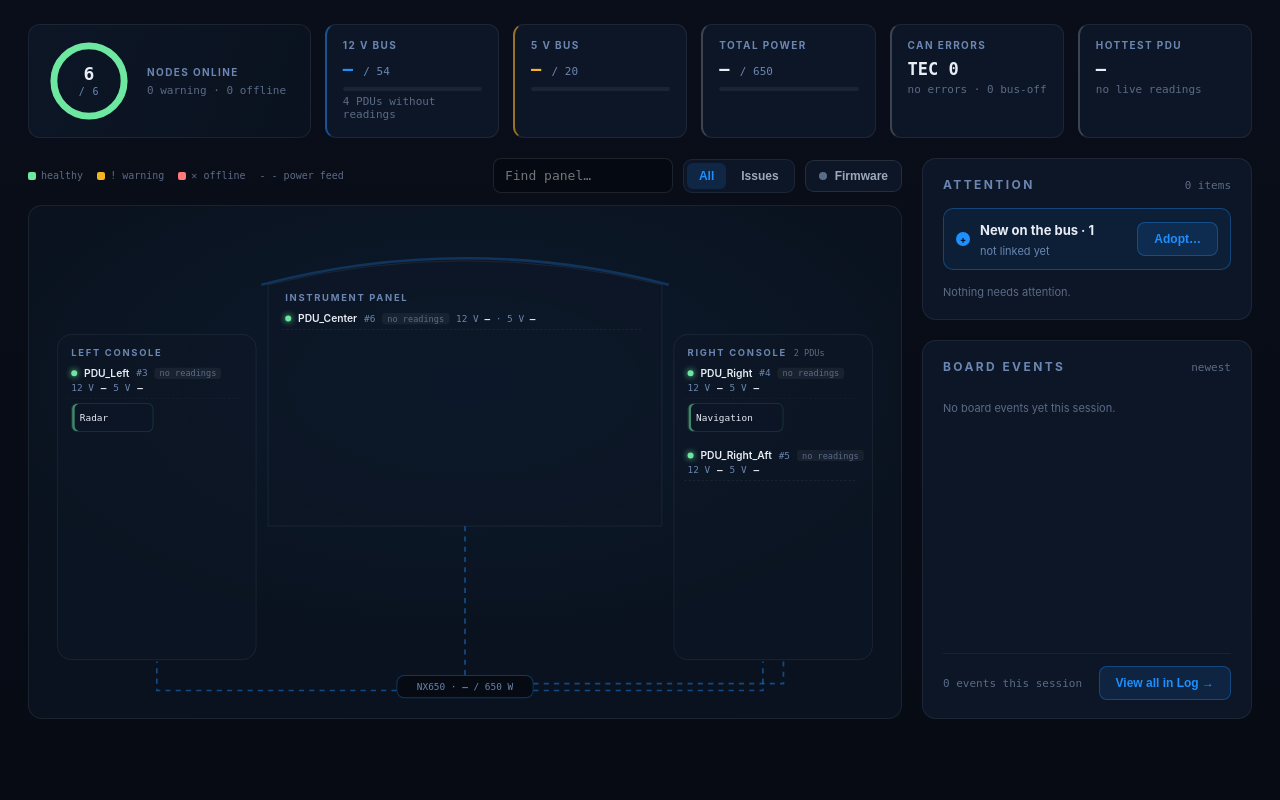
Test: T16 Board panel Settings tab (B72, X2) › Save sends only what changed, and the panel closes
Click the button titled "#2 Right_Navigation" at [736, 417], box [688, 403, 784, 432]
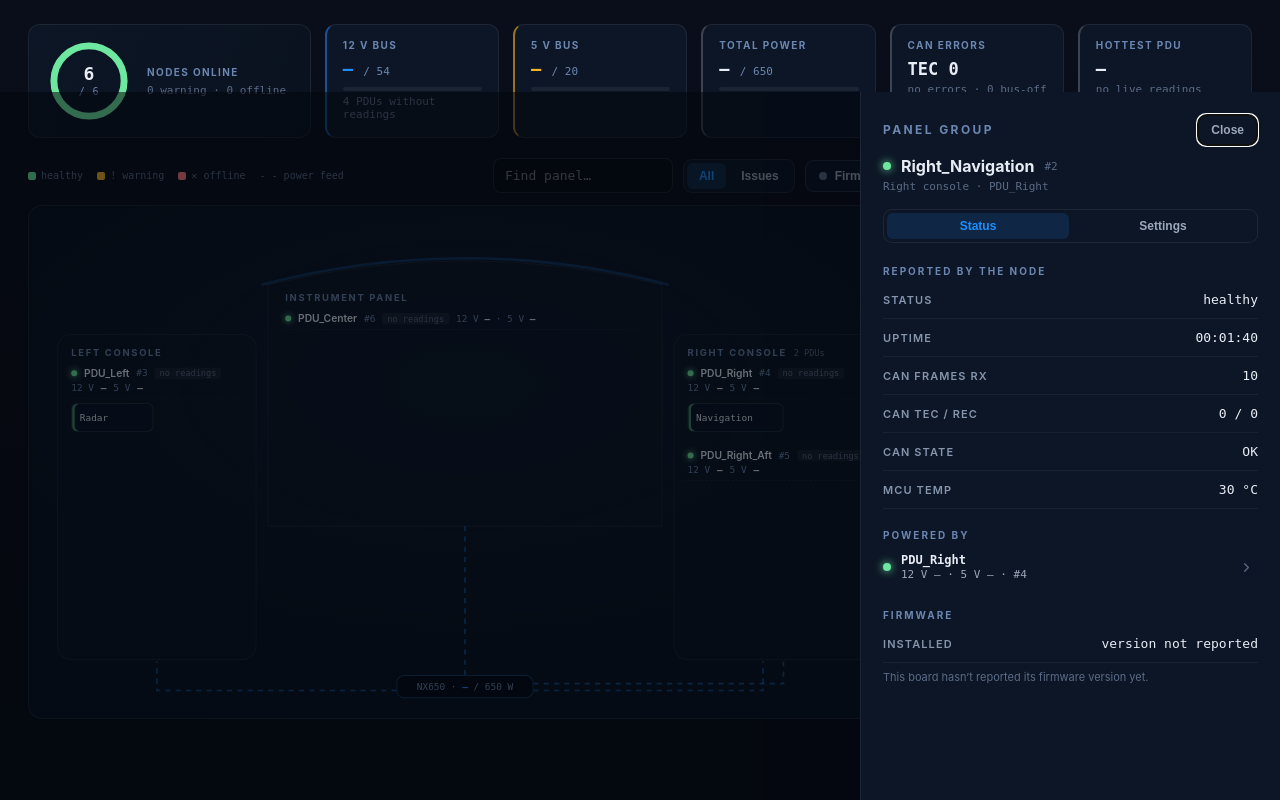
Click the tab "Settings" at [1163, 226], box [1072, 213, 1254, 239]
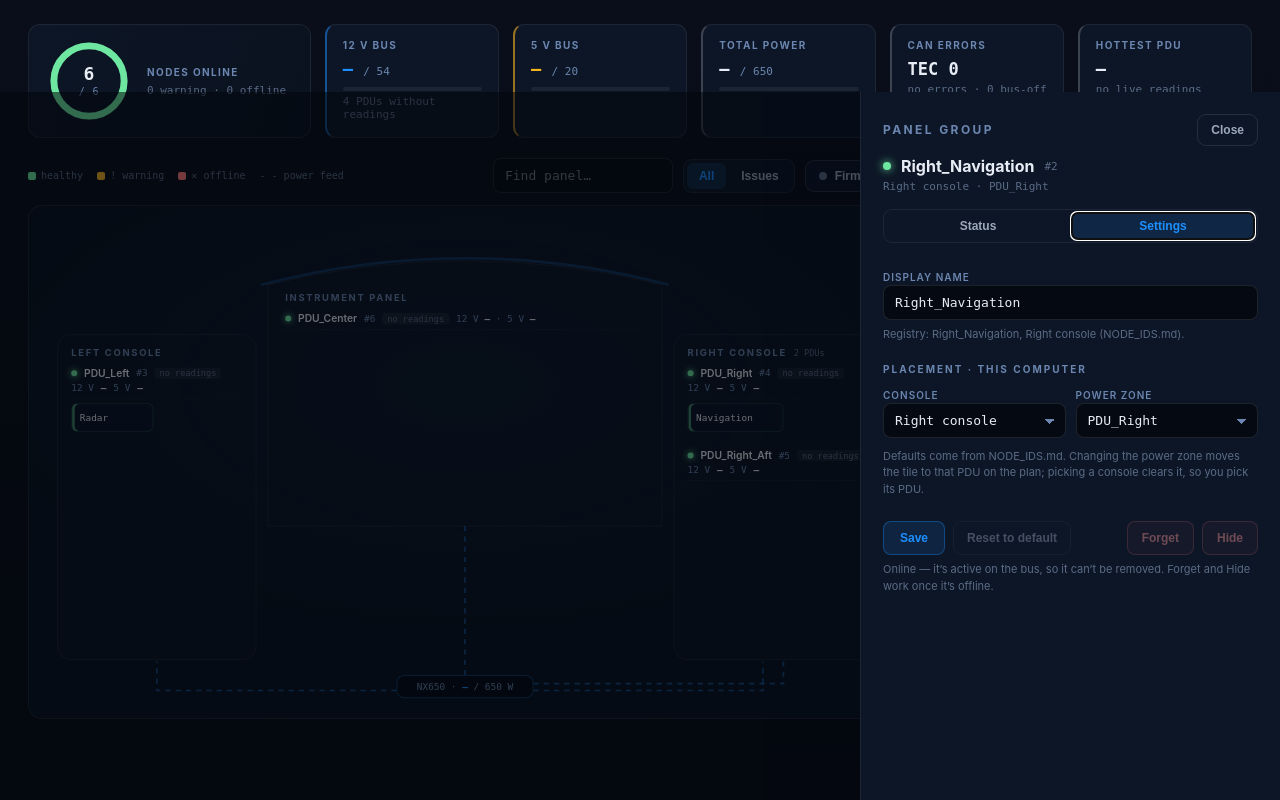
Select "Left console" in the dropdown labelled "Console" at [974, 420], box [883, 402, 1066, 438]
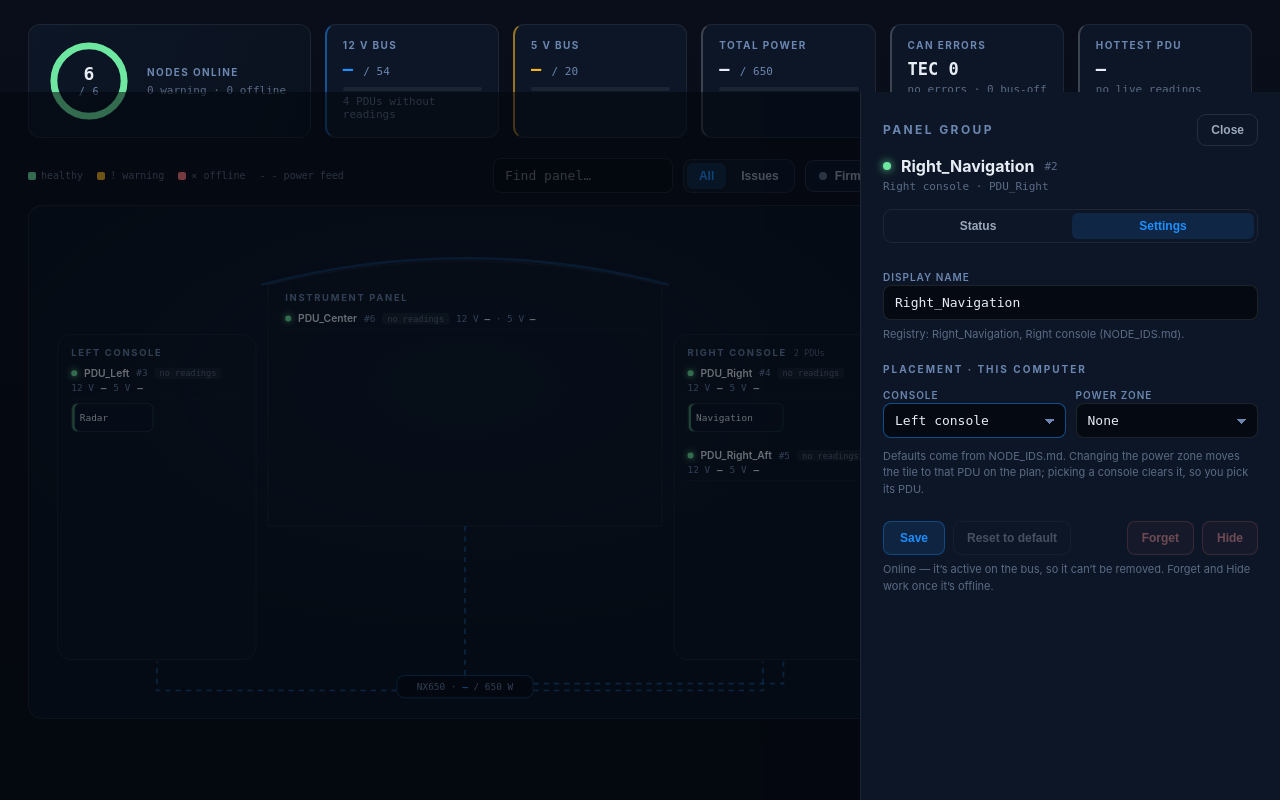
Click the button "Save" at [914, 538], box [883, 521, 945, 555]
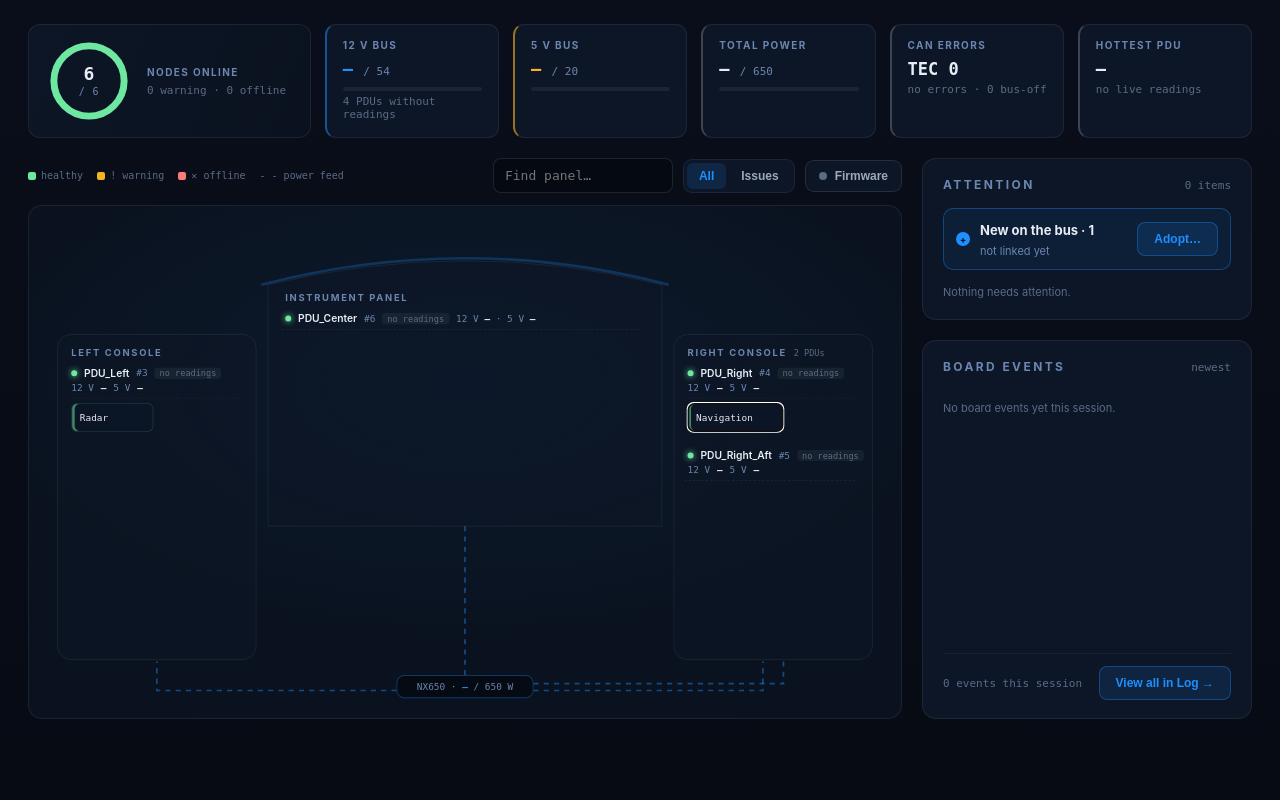
Check: the dialog is gone
